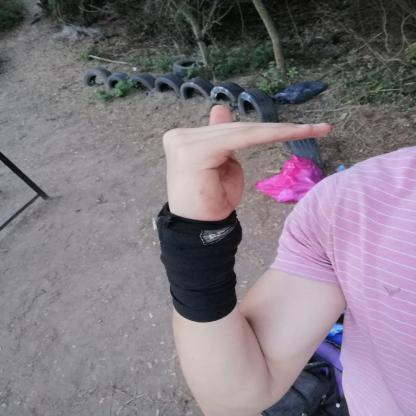KHAA: (144, 96, 348, 235)
